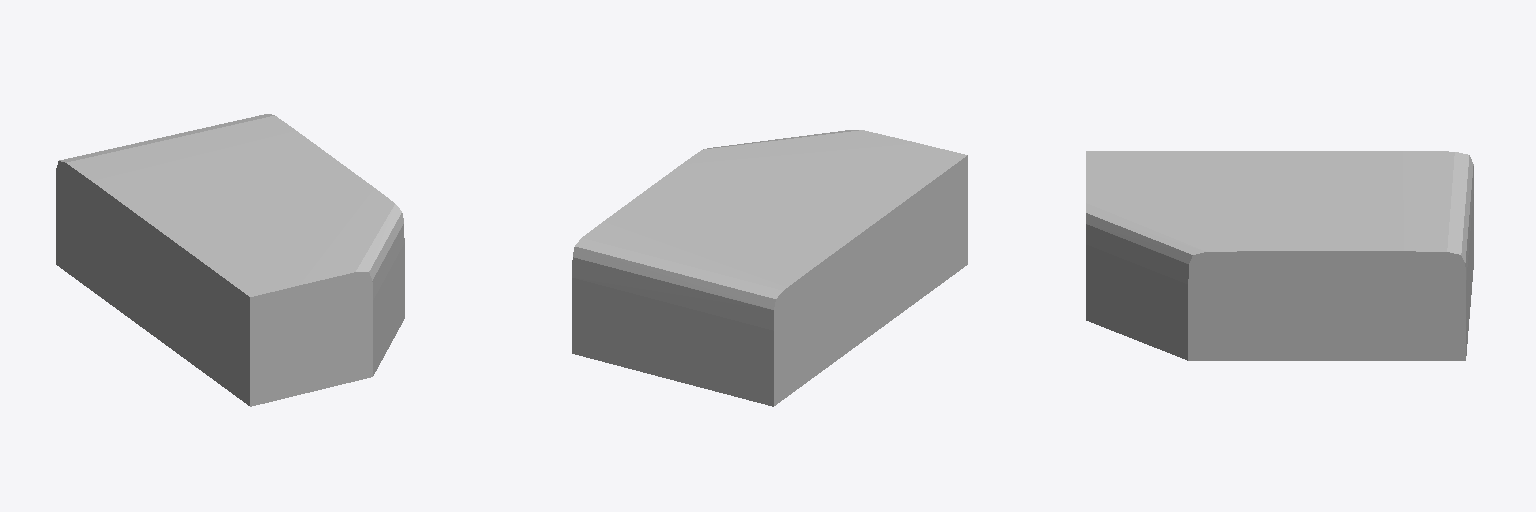
Rendered from pentagon_collision_10.obj.
The picture shows the model from 3 angles: view 1: azimuth 30°, elevation 25°; view 2: azimuth 150°, elevation 25°; view 3: azimuth 270°, elevation 25°; orthographic projection.
Size of the model in its own units: 0.0065 by 0.0033 by 0.0106.